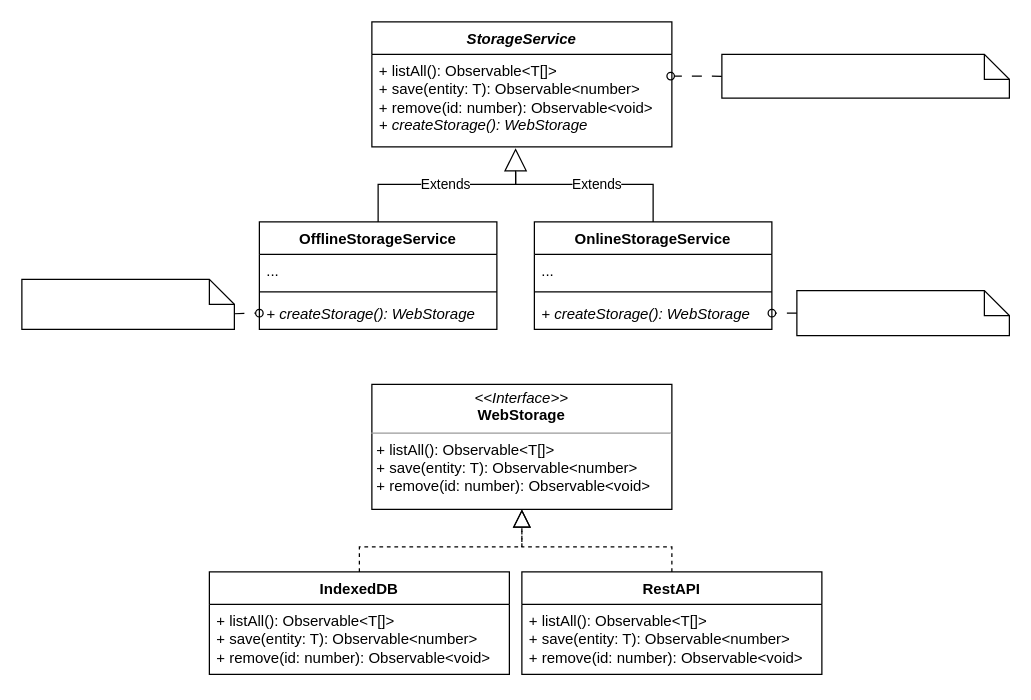
The diagram is 1031 pixels wide and 700 high, and some of its shapes have lost their labels. Here are the shapes that lost their labels. From the top down, the centre of each, then its label:
At [865,75]: "WebStorage w = createStorage()".
At [127,303]: "return new IndexedDB()".
At [902,312]: "return new RestAPI()".
